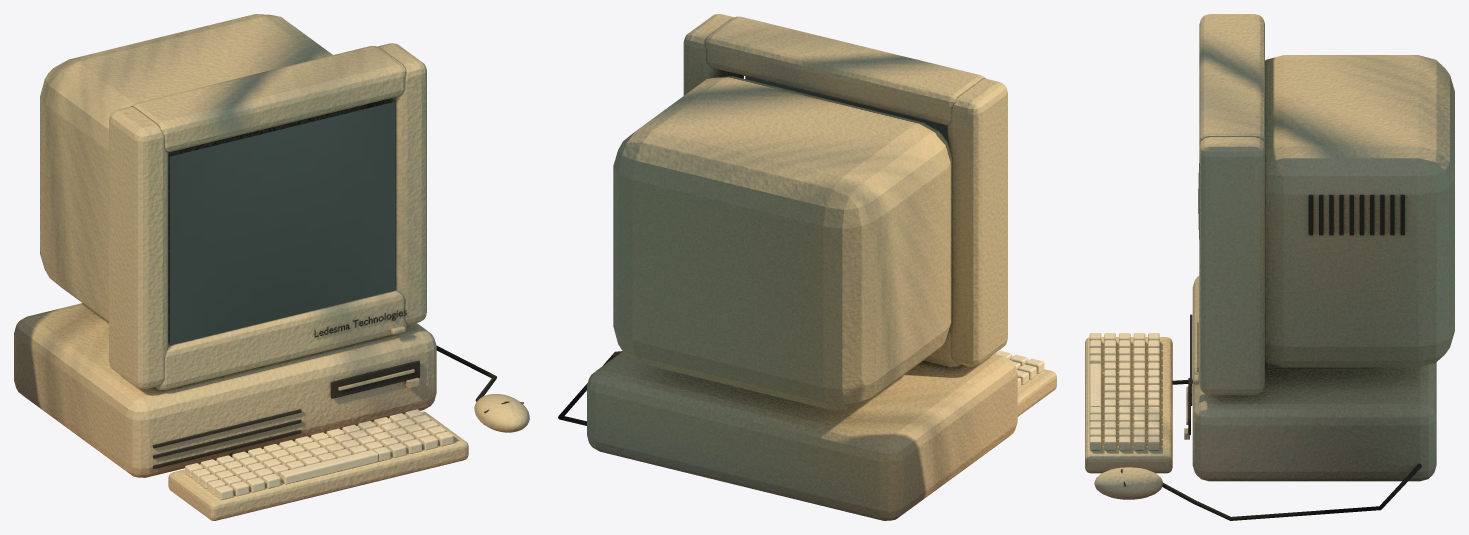
The model's file is computer_setup.glb.
3 renders of one model, left to right at view 1: azimuth 30°, elevation 25°; view 2: azimuth 150°, elevation 25°; view 3: azimuth 270°, elevation 25°, orthographic. The views are drawn at different scales.
Parts seen in each view (by area): view 1: computer_setup__BakedMesh, computer_setup__Screen; view 2: computer_setup__BakedMesh, computer_setup__Screen; view 3: computer_setup__BakedMesh.
Part boxes in pixels (left/top/right/bottom): computer_setup__BakedMesh: left=14, top=14, right=529, bottom=520; computer_setup__Screen: left=169, top=101, right=395, bottom=344; computer_setup__BakedMesh: left=558, top=14, right=1056, bottom=520; computer_setup__Screen: left=745, top=76, right=947, bottom=141; computer_setup__BakedMesh: left=1085, top=14, right=1454, bottom=520.
Bounding box in the file's own units: 1.17 × 1.02 × 1.01.
2 materials, 1 textured.
